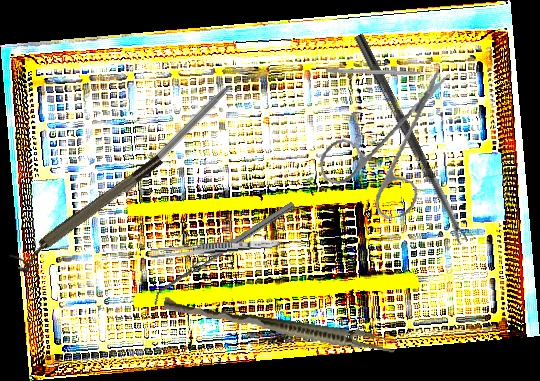Chopper: (325, 68, 437, 82)
Dressing Forceps: (148, 236, 282, 261)
Fixation Ring: (8, 152, 170, 275)
Hook Surgical: (121, 68, 249, 196)
Iris Scissors: (307, 70, 471, 229)
Spatula Surgical: (148, 201, 299, 306)
Surgical Spoon: (352, 33, 469, 246)
Tissue Forceps: (161, 296, 398, 356)
